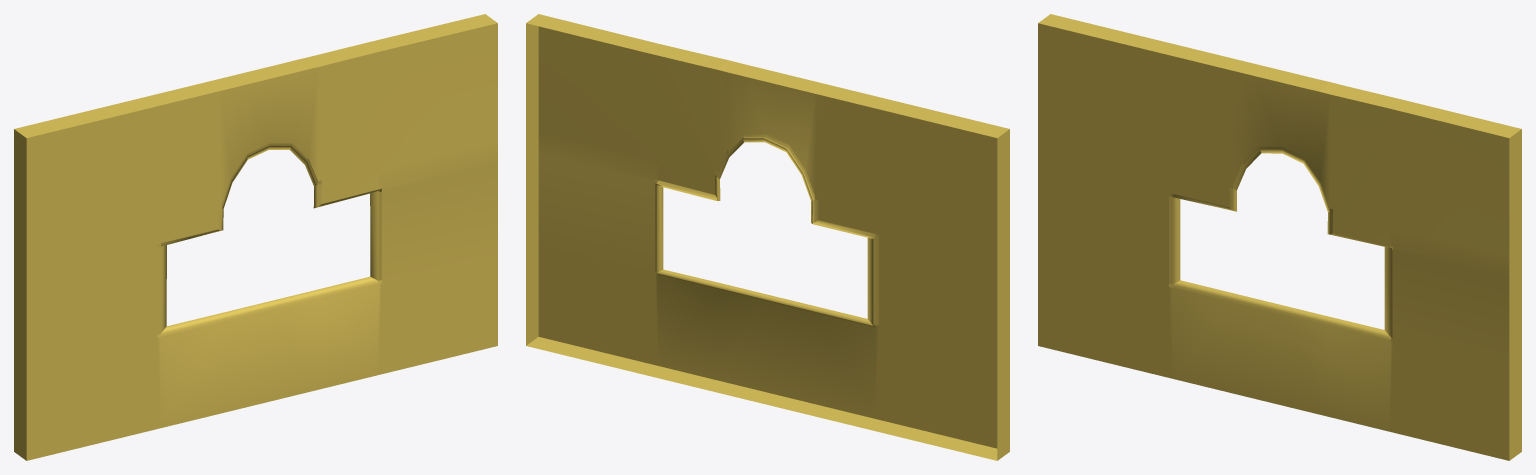
Rendered from Side Wll.FBX.
3 renders of one model, left to right at view 1: azimuth 30°, elevation 25°; view 2: azimuth 150°, elevation 25°; view 3: azimuth 330°, elevation 25°, orthographic.
Visible parts, largest first — view 1: Side Wall; view 2: Side Wall; view 3: Side Wall.
Boxes of the visible parts, x1,y1,x2,y2 form: Side Wall: (14, 14, 497, 460); Side Wall: (526, 14, 1009, 460); Side Wall: (1038, 14, 1521, 460).
Size of the model in its own units: 138 by 90.43 by 6.75.
